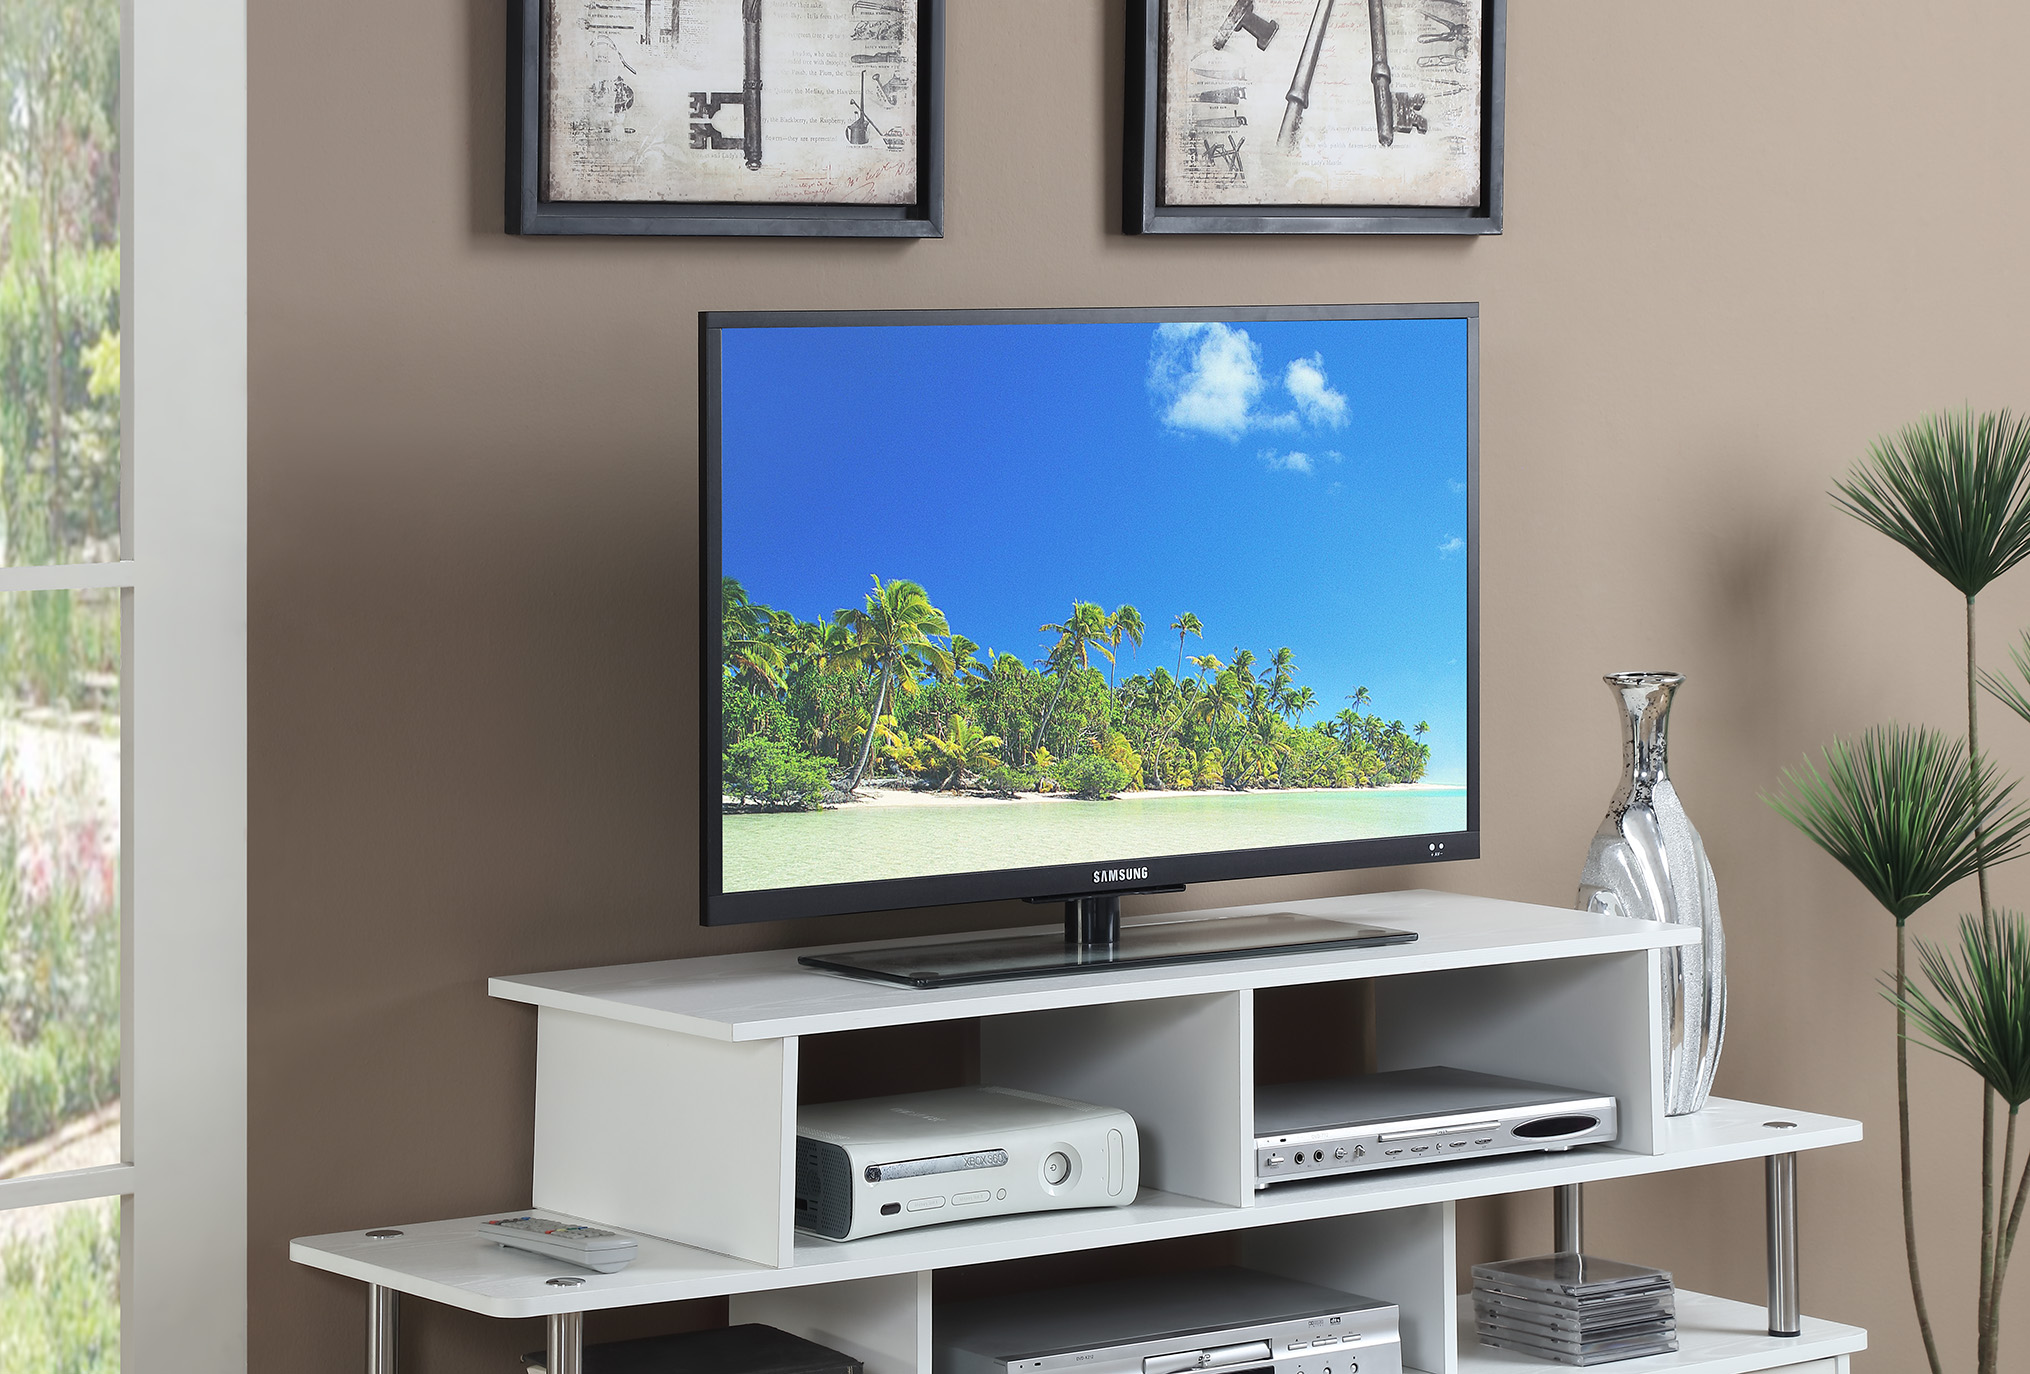bottle: (1585, 675, 1729, 1118)
pottedplant: (1771, 403, 2030, 1374)
tvmonitor: (695, 297, 1496, 935)
